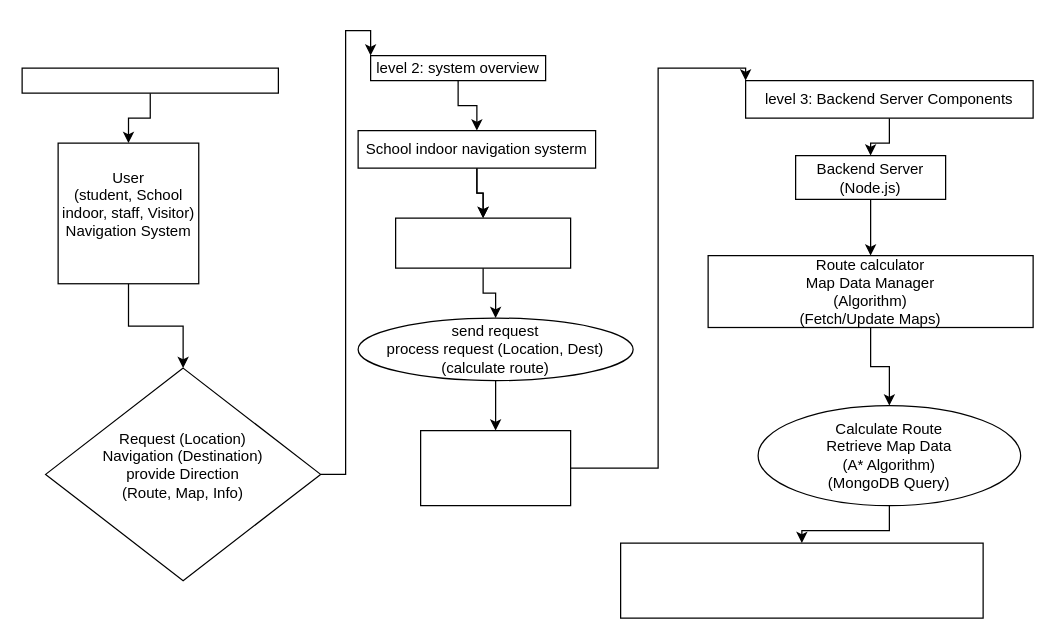
This 1055x640 diagram has some shape labels left out. The box of each missing label's shape, as (x1, y1, x2, y2) in pixels:
level 1: context diagram: (21, 67, 278, 93)
Map Rendering Database (MongoDB) (SVG, HTML,CSS) store maps, routes: (419, 429, 571, 506)
Response Handler API Integrator (Send Response) (Handle Request): (619, 542, 983, 618)
User Interface Backend Server(web App) (node.js): (394, 217, 571, 268)
